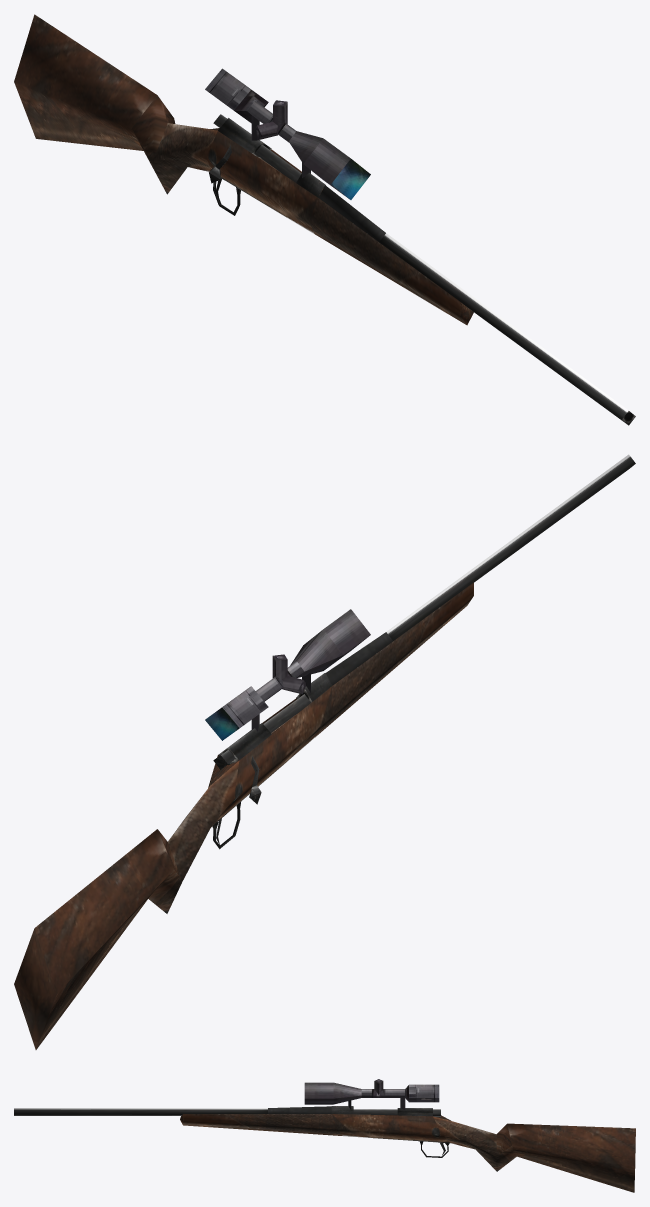
Rendered from HuntingRifle.fbx.
The picture shows the model from 3 angles, top to bottom: view 1: azimuth 30°, elevation 25°; view 2: azimuth 150°, elevation 25°; view 3: azimuth 270°, elevation 25°; orthographic projection. The views are drawn at different scales.
Parts seen in each view (by area): view 1: BARilfeBody&Barrel, BARifleScope, BARifleBolt; view 2: BARilfeBody&Barrel, BARifleScope, BARifleBolt; view 3: BARilfeBody&Barrel, BARifleScope, BARifleBolt.
Boxes of the visible parts, <box> form: BARilfeBody&Barrel: <box>14,14,635,425</box>; BARifleScope: <box>205,68,370,199</box>; BARifleBolt: <box>209,114,301,183</box>; BARilfeBody&Barrel: <box>14,454,635,1049</box>; BARifleScope: <box>205,609,370,740</box>; BARifleBolt: <box>213,694,310,804</box>; BARilfeBody&Barrel: <box>14,1106,635,1192</box>; BARifleScope: <box>304,1079,439,1109</box>; BARifleBolt: <box>353,1109,440,1116</box>.
Size of the model in its own units: 5.17 by 22.24 by 112.
Materials: 3 (3 with a texture image).
